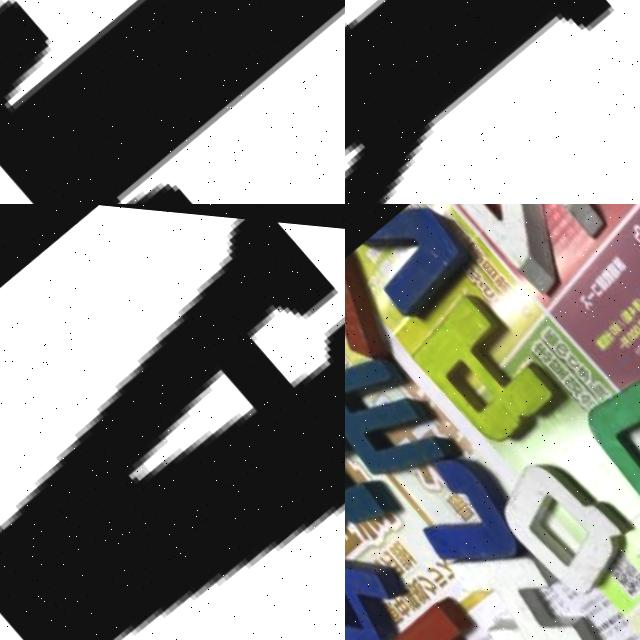A: (0, 204, 345, 640), (374, 579, 521, 640)
C: (575, 349, 640, 521)
H: (431, 513, 603, 640)
J: (376, 425, 541, 599)
K: (345, 399, 400, 563)
M: (345, 335, 460, 501)
P: (345, 514, 423, 640)
Q: (479, 433, 640, 613)
R: (396, 275, 569, 457)
T: (0, 0, 345, 204)
V: (346, 204, 492, 332)
Y: (345, 0, 640, 204)
Z: (435, 204, 627, 304)
